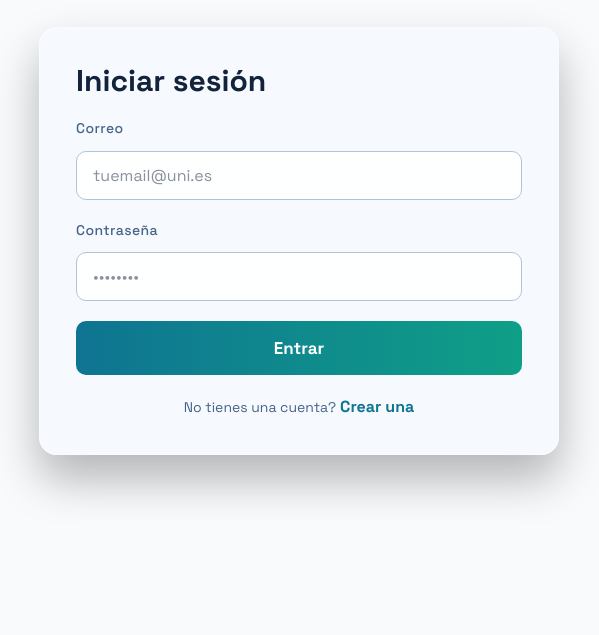
Login form validation › shows required field error on register submit
The width and height of the screenshot is (599, 635).
Click the button "Crear una": (377, 406) [340,395,414,418]
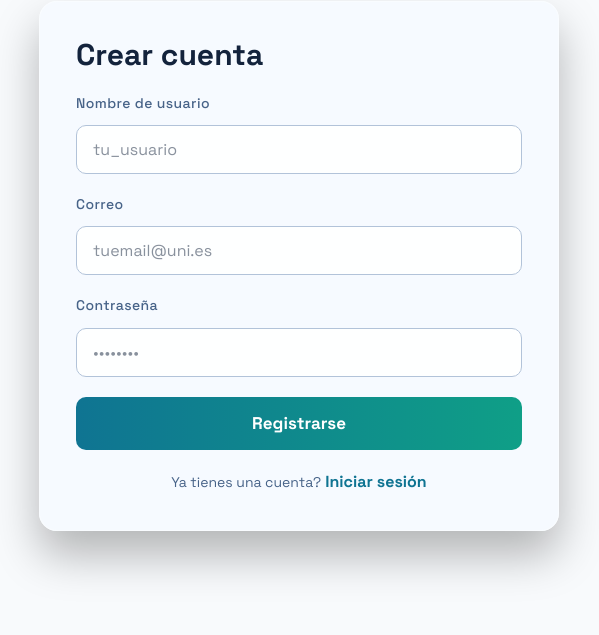
In the field labelled "Correo": (299, 251) [76,226,522,276], type "student@uni.es"
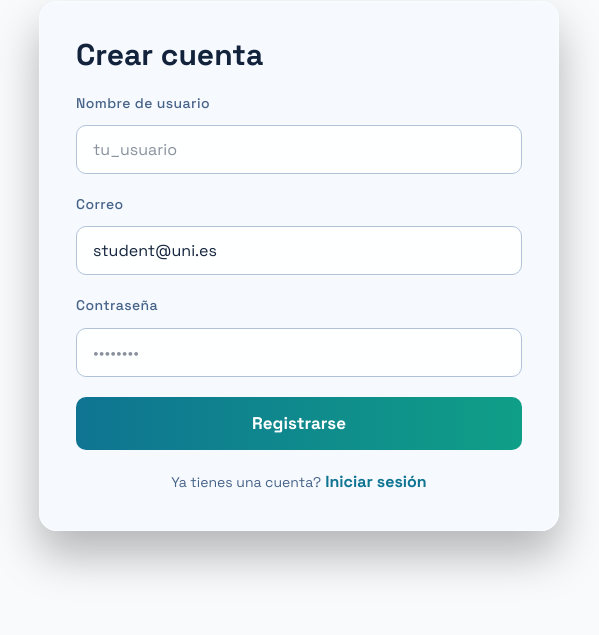
In the password field labelled "Contraseña": (299, 352) [76,328,522,377], type "password123"
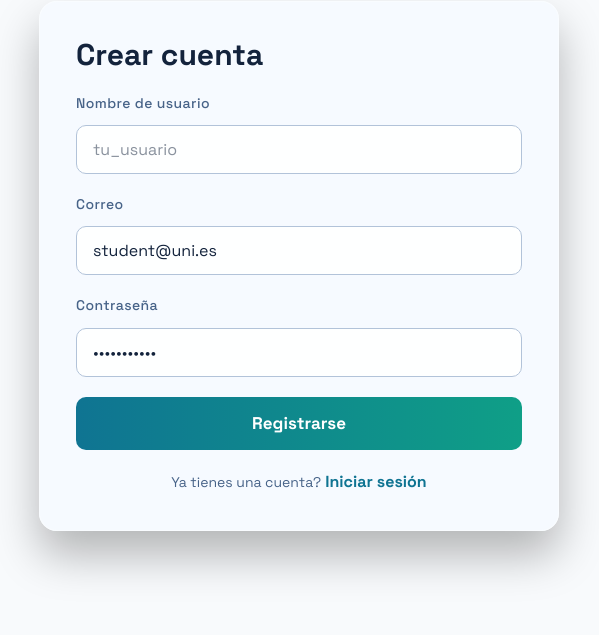
Click the button "Registrarse": (299, 424) [76,397,522,450]
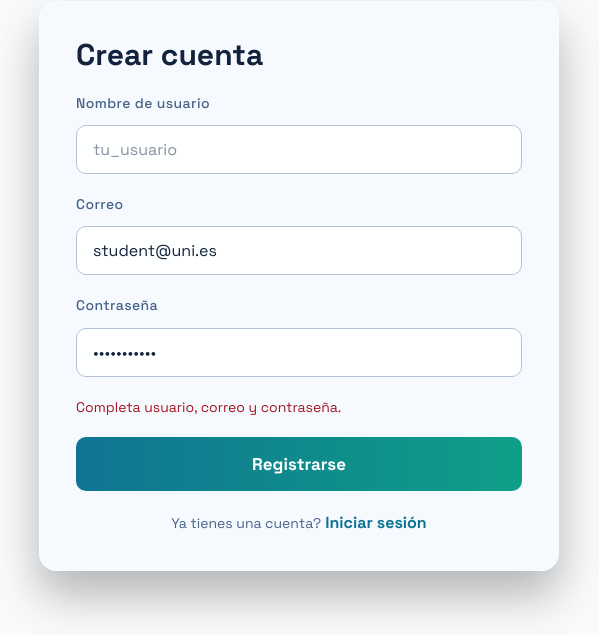
Expected: the text "Completa usuario, correo y contraseña." is shown, [76,398,341,416]
